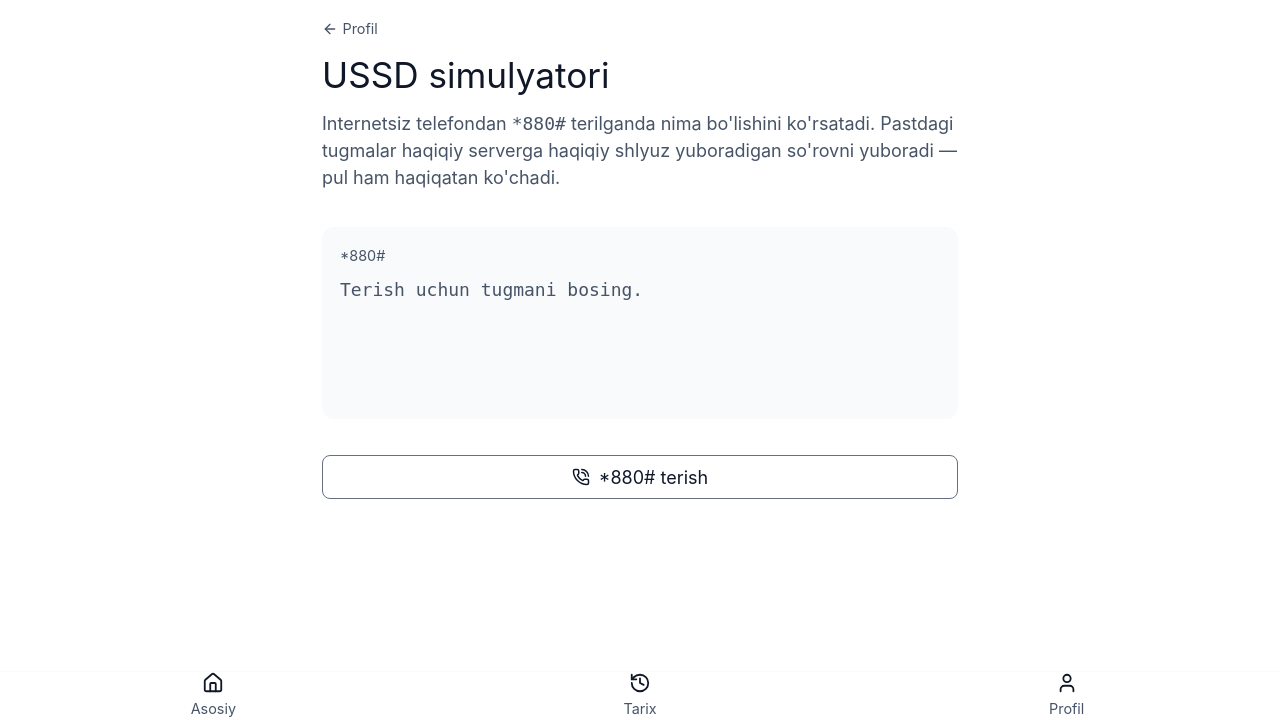
Test case: the §11.7 session, end to end (I5) › closes the session on END and offers a fresh dial
Click the button "*880# terish".
click(640, 477)  # box [322,455,958,499]
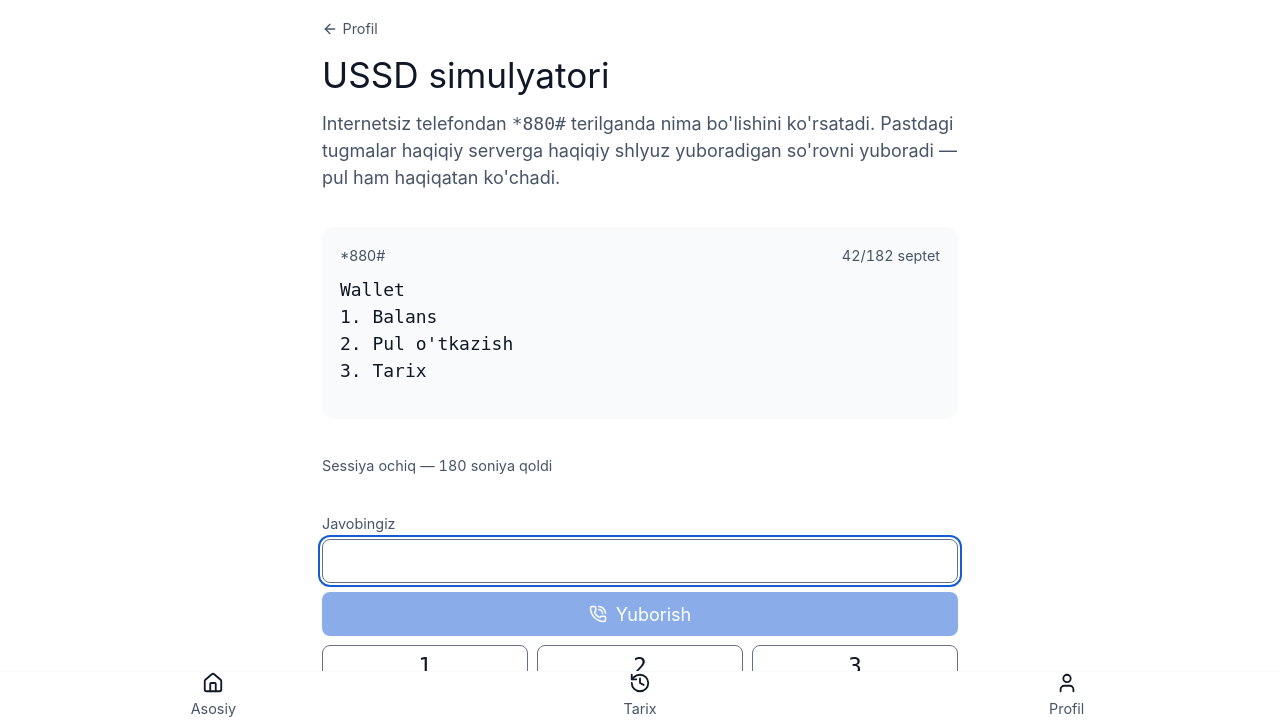
Type "1" into the field labelled "Javobingiz".
click(640, 561); type("1")  # box [322,539,958,583]
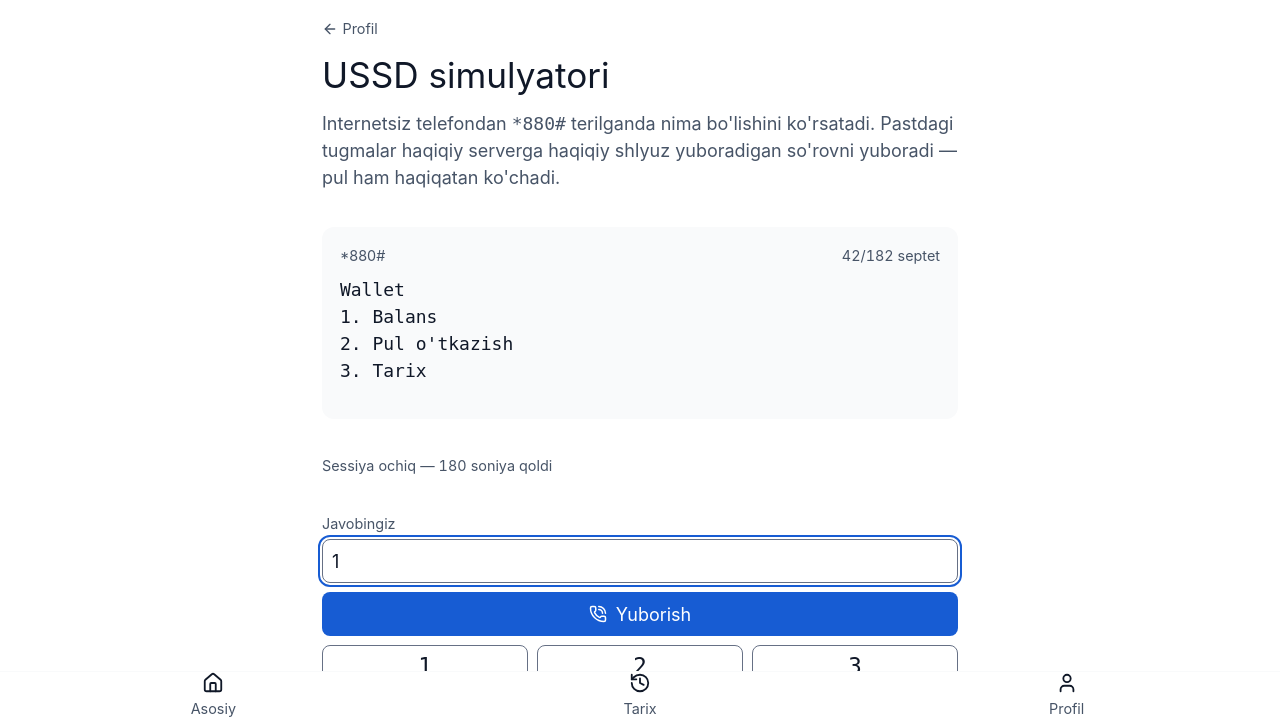
Click the button "Yuborish".
click(640, 614)  # box [322,592,958,636]
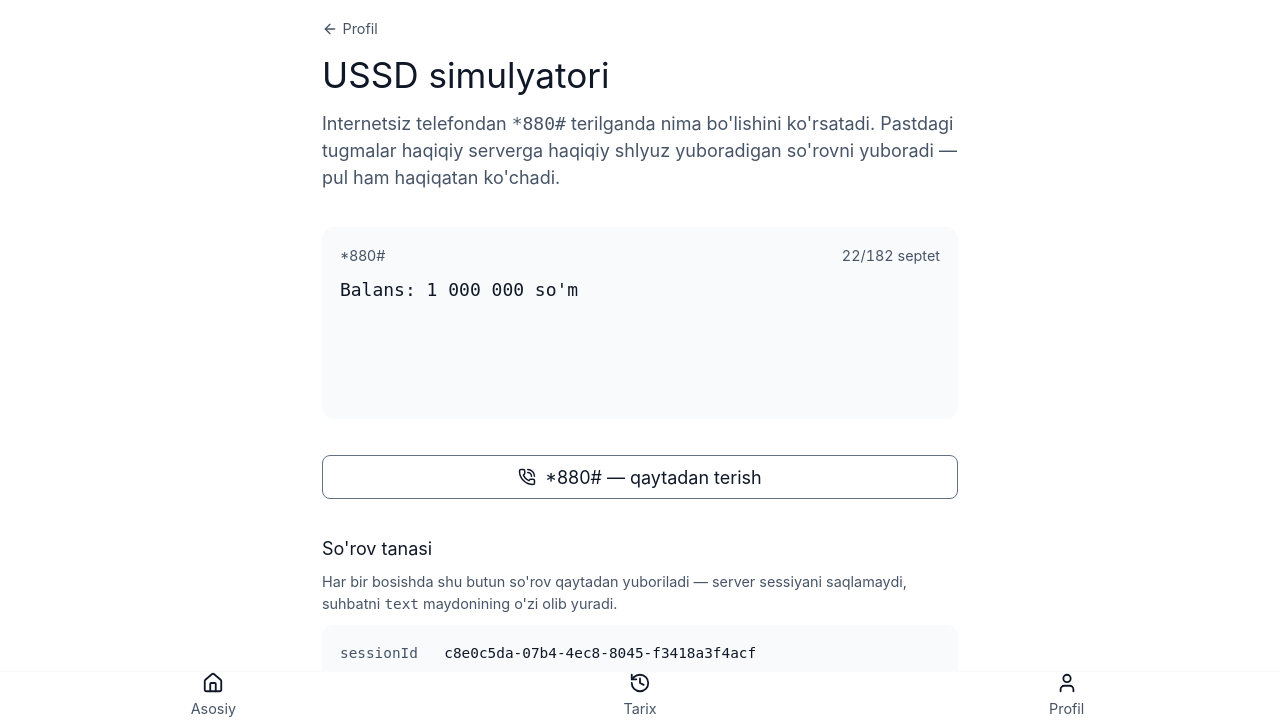
Expected: the text "Balans: 1 000 000 so'm" is shown, [340,279,578,300]
Expected: the label labelled "Javobingiz" is gone
Expected: the button "*880# — qaytadan terish" is shown, [322,455,958,499]
